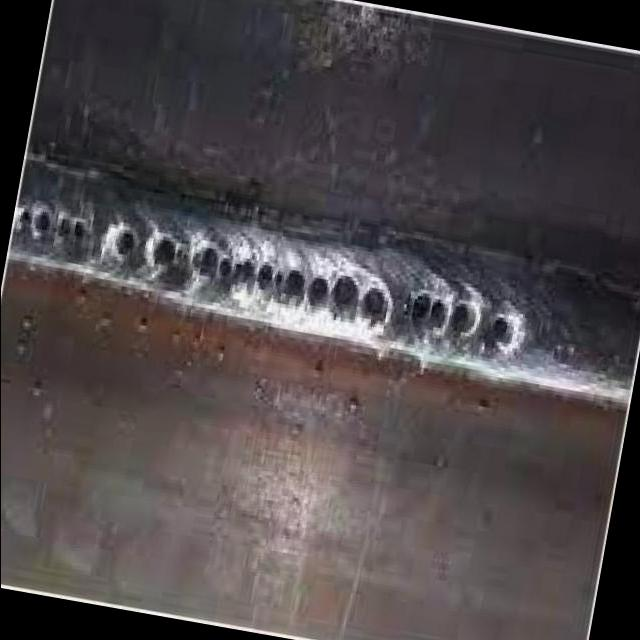defect: (187, 237, 395, 334), (401, 282, 521, 357), (18, 199, 93, 246), (142, 227, 178, 279), (105, 213, 139, 266)
